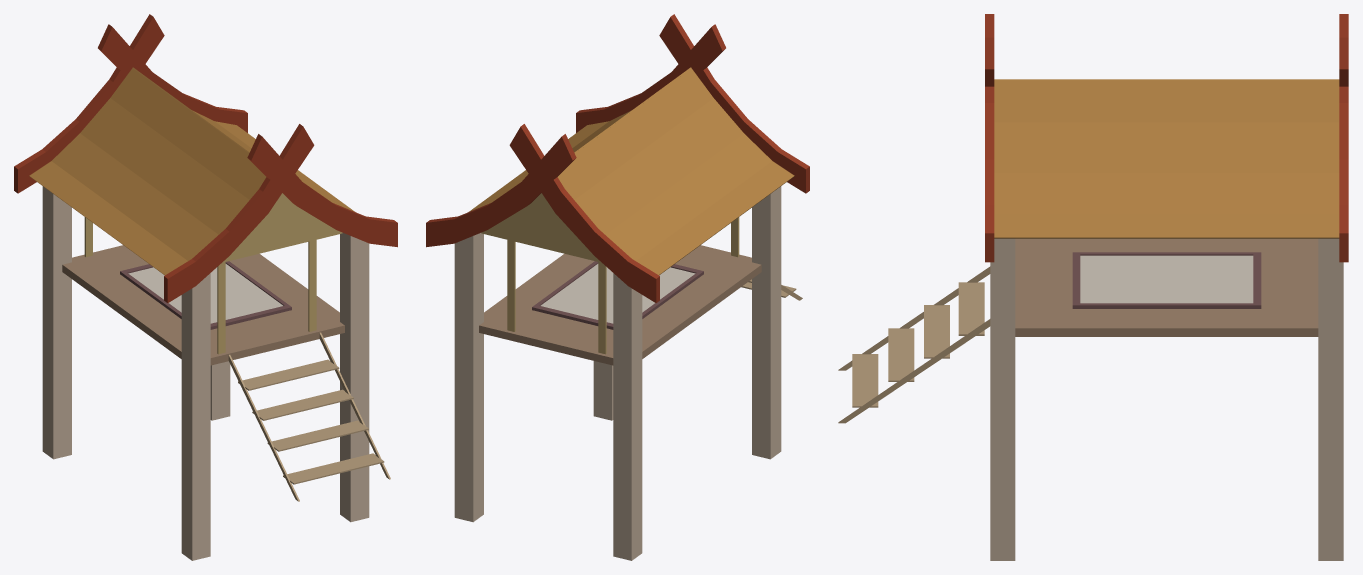
File: HouseLV5.glb
3 views of the same model, side by side, from view 1: azimuth 30°, elevation 25°; view 2: azimuth 150°, elevation 25°; view 3: azimuth 270°, elevation 25° (orthographic). The views are drawn at different scales.
Parts seen in each view (by area): view 1: Plane; view 2: Plane; view 3: Plane.
Boxes of the visible parts, x1,y1,x2,y2 form: Plane: [14, 14, 397, 560]; Plane: [426, 14, 809, 560]; Plane: [838, 14, 1348, 560].
Bounding box in the file's own units: 2.67 × 4.55 × 4.35.
